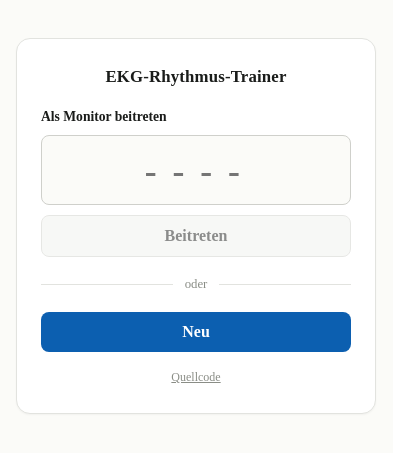
Scenario: StartCard › a failed creation shows an error and re-enables the button instead of navigating
This screenshot has width=393, height=453.
Click the button "Neu" at [196, 332], box x1=41 y1=312 x2=351 y2=352
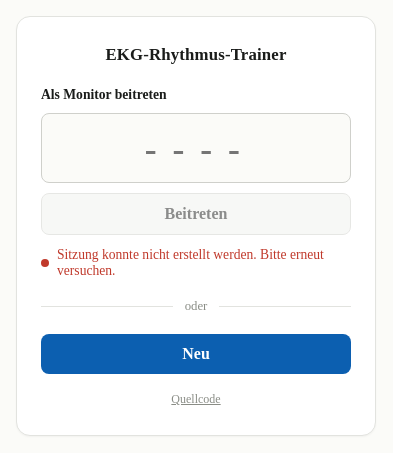
Check: the button "Neu" is enabled, box x1=41 y1=334 x2=351 y2=374
Check: the message "Sitzung konnte nicht erstellt werden. Bitte erneut versuchen." is shown, box x1=41 y1=247 x2=351 y2=279
